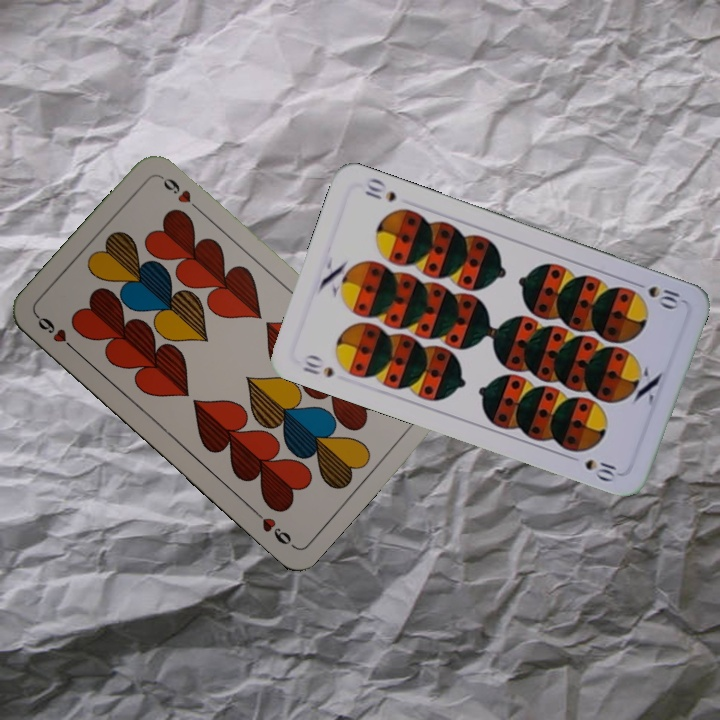H9: (32, 311, 80, 356)
S10: (629, 277, 686, 311), (298, 358, 336, 380)
